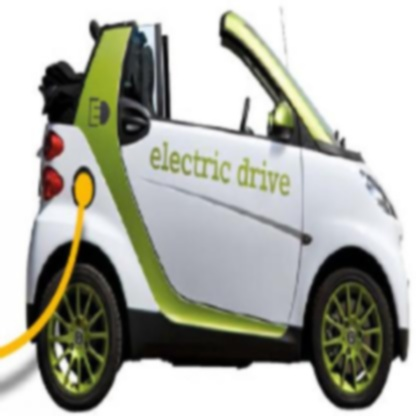Vehicle: (26, 9, 412, 415)
